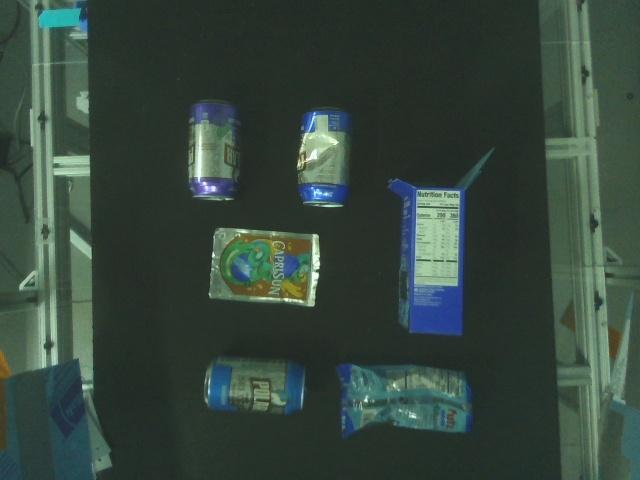cardboard: (385, 143, 498, 341)
metal: (202, 352, 315, 418), (185, 97, 243, 204), (295, 105, 353, 210)
plastic: (331, 359, 476, 443), (205, 225, 323, 310)
